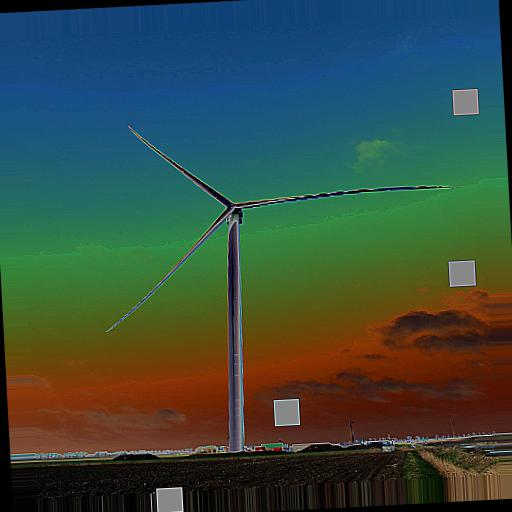wind turbine: (104, 123, 449, 449)
